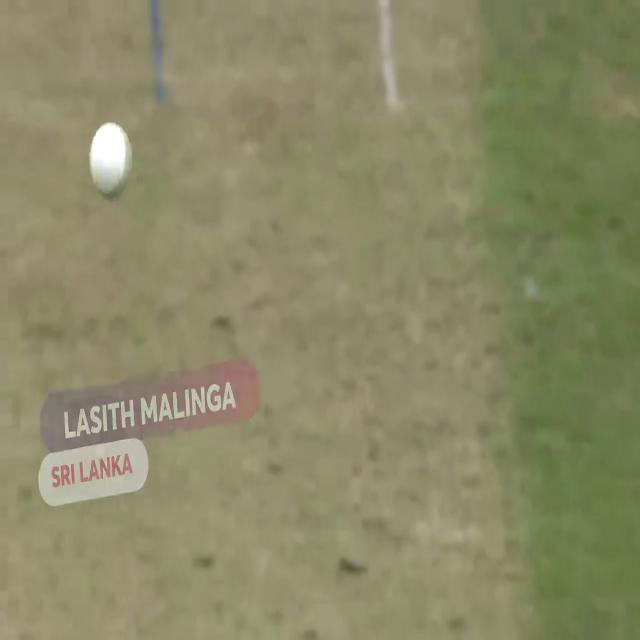ball: (84, 113, 134, 204)
